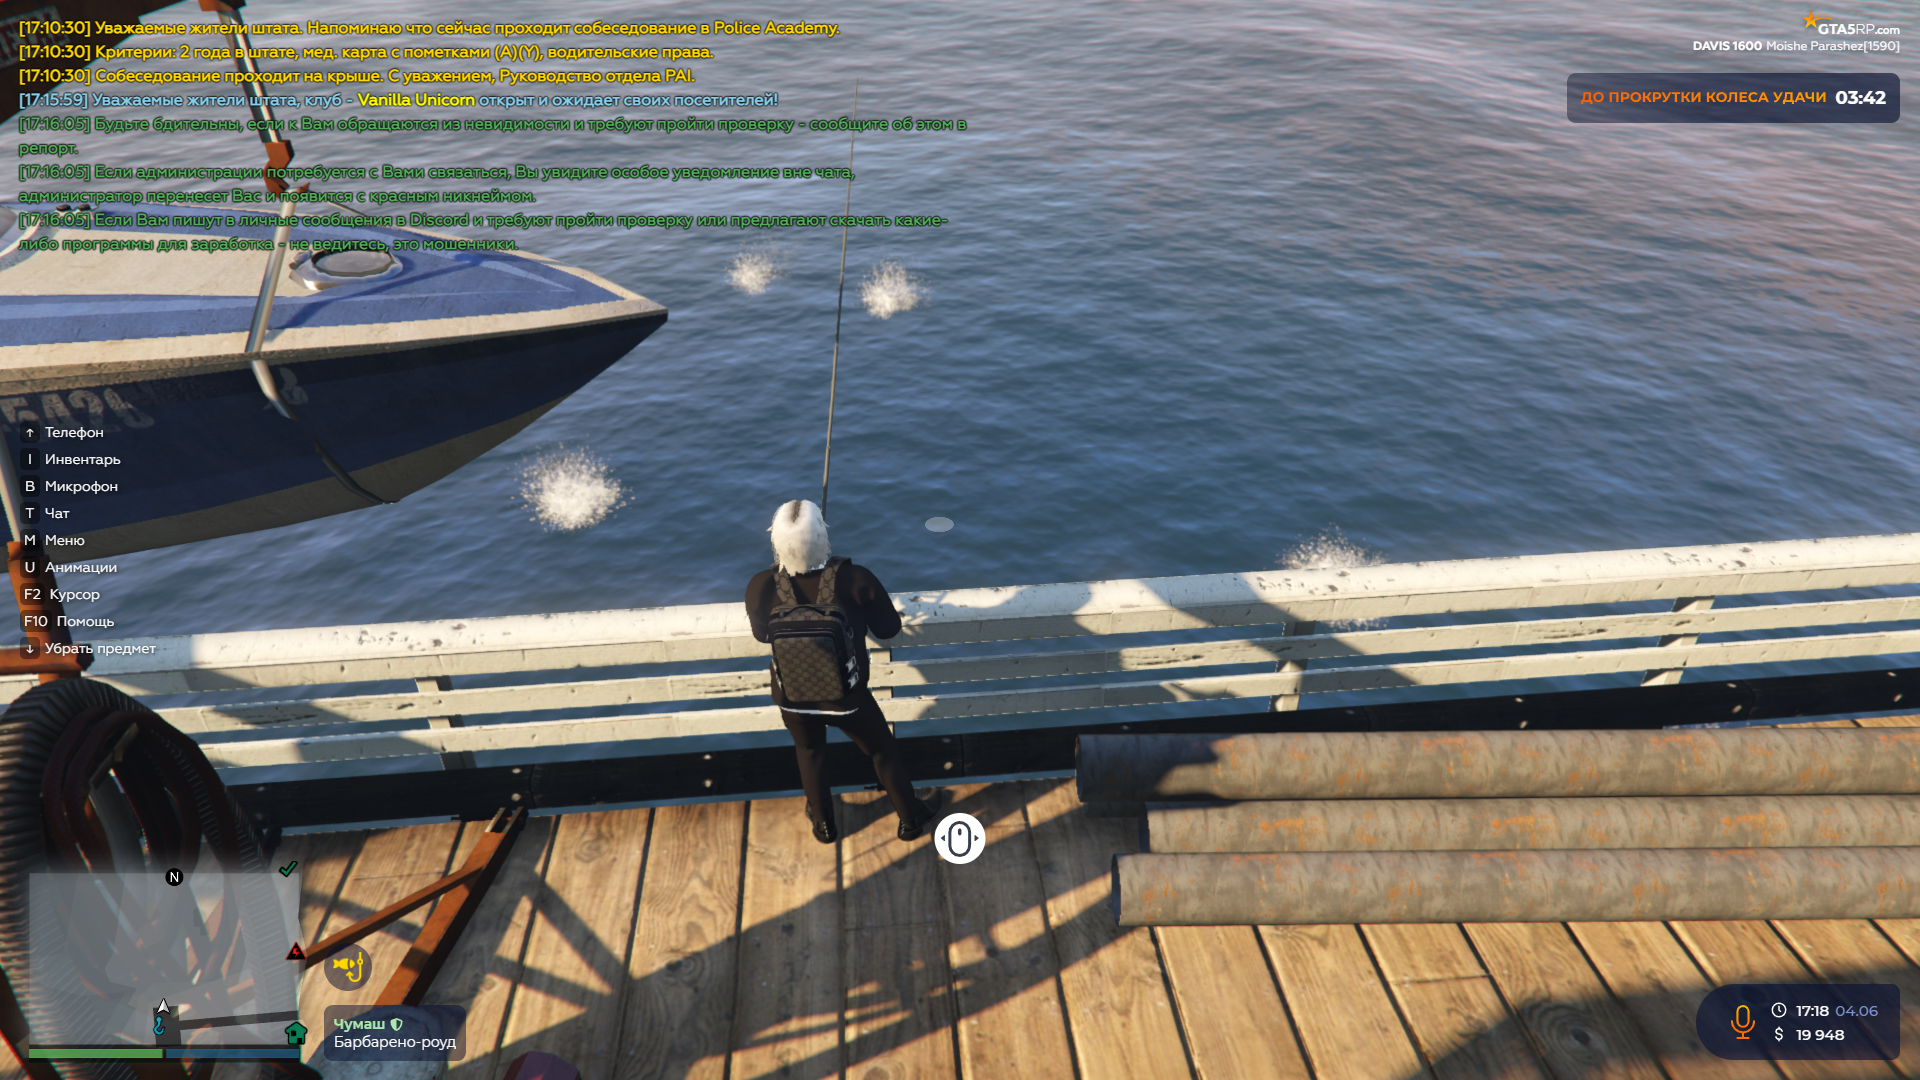circle: (924, 514, 956, 531)
